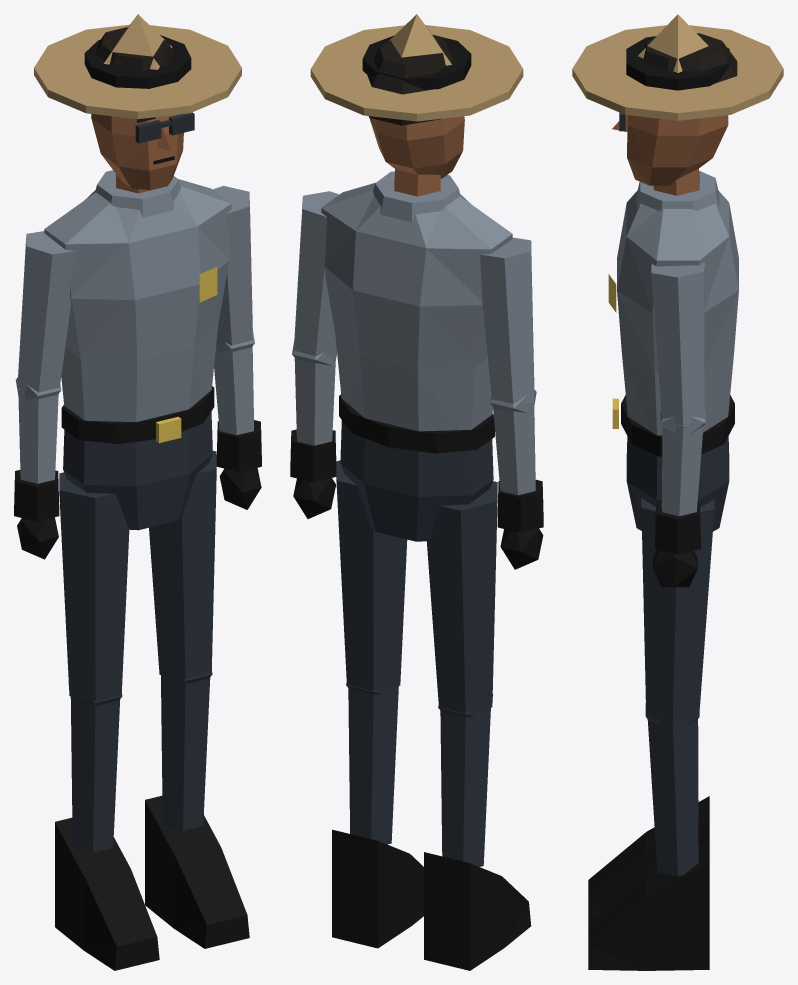
Rendered from trooper-dalrymple.glb.
3 views of the same model, side by side, from view 1: azimuth 30°, elevation 25°; view 2: azimuth 150°, elevation 25°; view 3: azimuth 270°, elevation 25° (orthographic). The views are drawn at different scales.
Visible parts, largest first — view 1: chest_mesh, shin_l_mesh, shin_r_mesh, prop_mesh, thigh_r_mesh, hips_mesh, thigh_l_mesh, upper_arm_r_mesh, head_mesh, forearm_r_mesh, forearm_l_mesh, upper_arm_l_mesh (+2 smaller); view 2: chest_mesh, shin_r_mesh, shin_l_mesh, prop_mesh, hips_mesh, thigh_r_mesh, thigh_l_mesh, upper_arm_r_mesh, head_mesh, forearm_r_mesh, forearm_l_mesh, upper_arm_l_mesh; view 3: chest_mesh, shin_l_mesh, prop_mesh, thigh_l_mesh, head_mesh, upper_arm_l_mesh, forearm_l_mesh, hips_mesh, shin_r_mesh.
Boxes of the visible parts, box(x1,y1,x2,y2) form: chest_mesh: box(44, 170, 231, 422); shin_l_mesh: box(145, 675, 249, 948); shin_r_mesh: box(55, 696, 159, 970); prop_mesh: box(34, 14, 241, 118); thigh_r_mesh: box(59, 472, 129, 705); hips_mesh: box(61, 386, 214, 530); thigh_l_mesh: box(149, 451, 216, 684); upper_arm_r_mesh: box(15, 231, 75, 399); head_mesh: box(91, 27, 194, 193); forearm_r_mesh: box(14, 388, 59, 559); forearm_l_mesh: box(214, 345, 261, 509); upper_arm_l_mesh: box(212, 185, 254, 353); chest_mesh: box(321, 171, 512, 431); shin_r_mesh: box(424, 708, 531, 970); shin_l_mesh: box(332, 686, 423, 948); prop_mesh: box(310, 14, 523, 121); hips_mesh: box(339, 394, 494, 541); thigh_r_mesh: box(426, 481, 497, 717); thigh_l_mesh: box(336, 460, 407, 694); upper_arm_r_mesh: box(480, 237, 536, 413); head_mesh: box(367, 34, 464, 196); forearm_r_mesh: box(493, 401, 543, 569); forearm_l_mesh: box(290, 356, 336, 518); upper_arm_l_mesh: box(292, 191, 339, 365); chest_mesh: box(617, 170, 738, 435); shin_l_mesh: box(588, 719, 709, 970); prop_mesh: box(572, 14, 783, 120); thigh_l_mesh: box(641, 498, 714, 725); head_mesh: box(619, 33, 737, 195); upper_arm_l_mesh: box(651, 262, 705, 434); forearm_l_mesh: box(653, 424, 703, 587); hips_mesh: box(621, 395, 734, 531); shin_r_mesh: box(588, 726, 709, 924).
Size of the model in its own units: 0.55 by 1.93 by 0.4.
